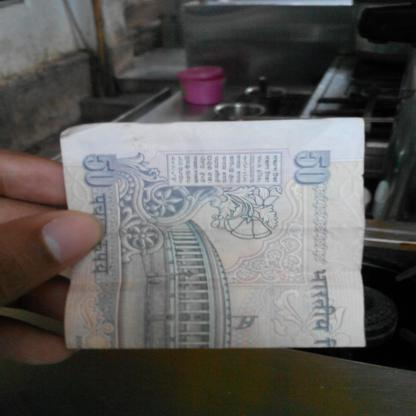Old50Back: (60, 117, 366, 349)
